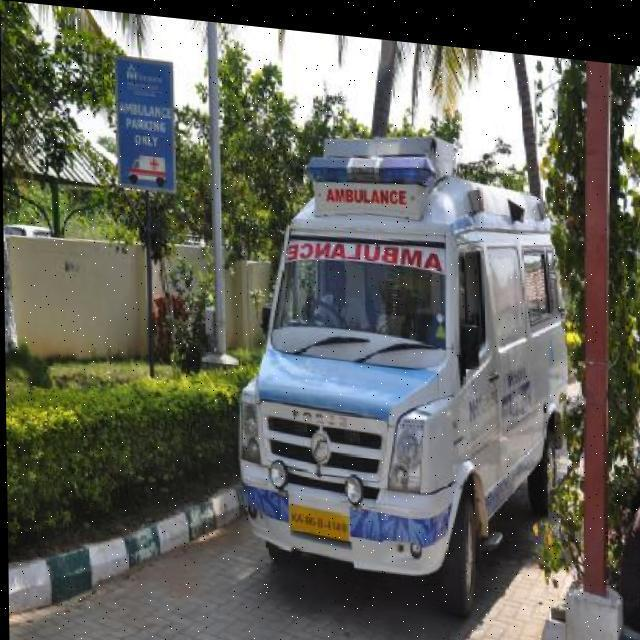Ambulance: (4, 353, 640, 640), (228, 108, 574, 619), (611, 460, 640, 640)
